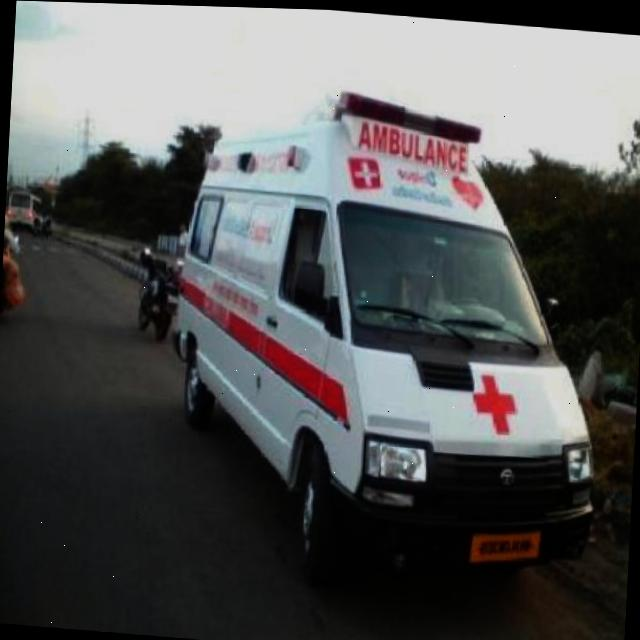emergency: (157, 76, 618, 605)
